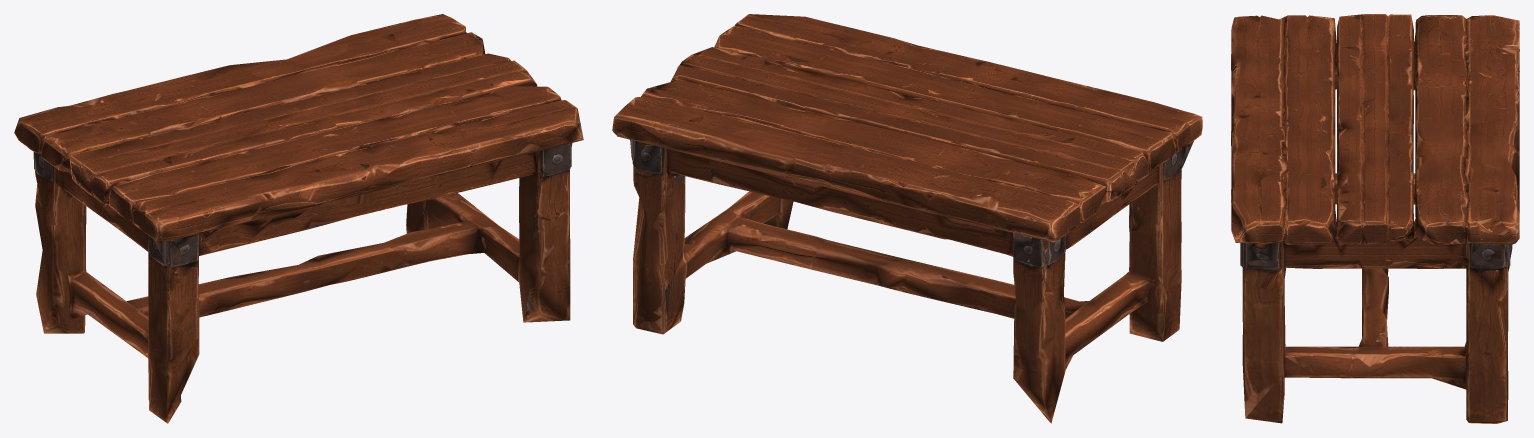
The model's file is table.glb.
3 views of the same model, side by side, from view 1: azimuth 30°, elevation 25°; view 2: azimuth 150°, elevation 25°; view 3: azimuth 270°, elevation 25° (orthographic). The views are drawn at different scales.
Visible parts, largest first — view 1: table; view 2: table; view 3: table.
Part boxes in pixels (x1,y1,x2,y2): table: [14, 14, 583, 423]; table: [612, 14, 1202, 423]; table: [1231, 14, 1519, 423].
Bounding box in the file's own units: 190 × 89 × 111.
1 material, 1 textured.
